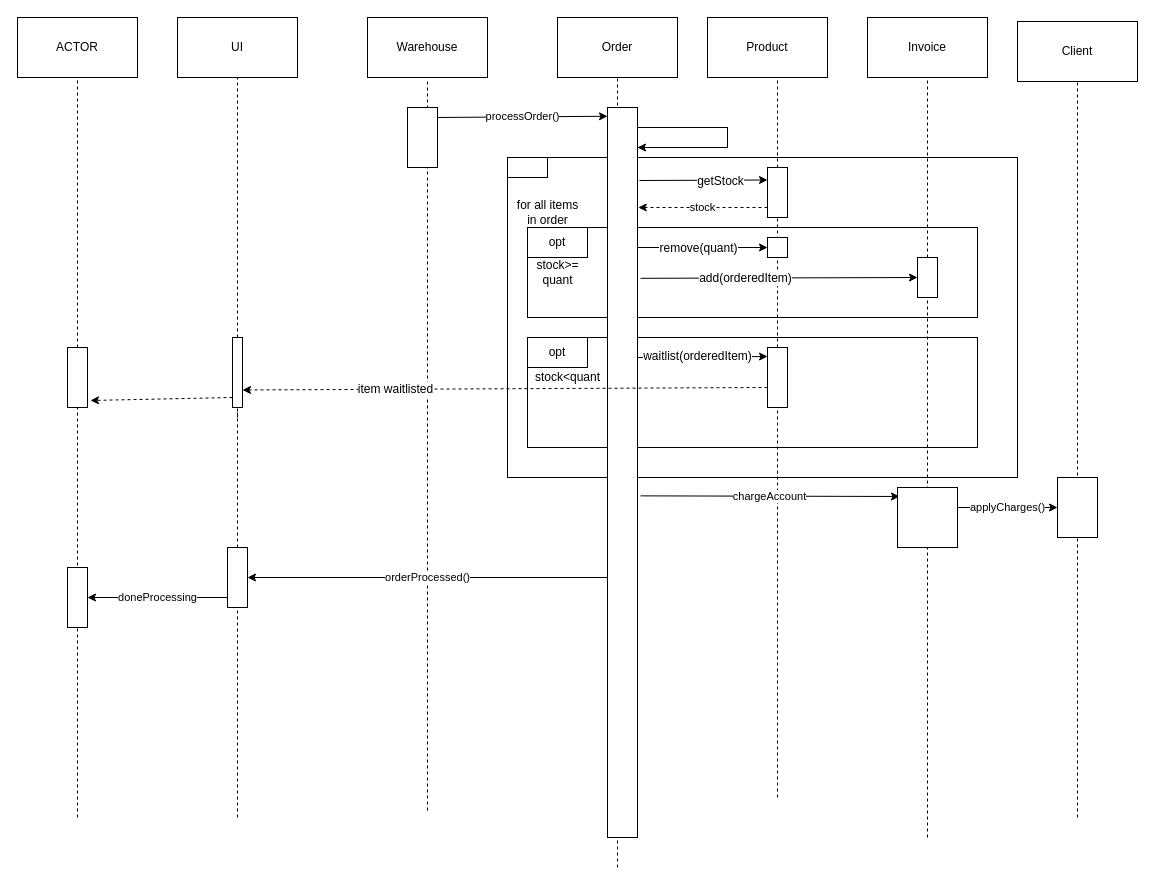
Image size: 1155x886. Some labels were removed from this diagram. The centre of each missing label's shape, as x and y in pixels:
loop: point 527,167
new Invoice: point 682,137
